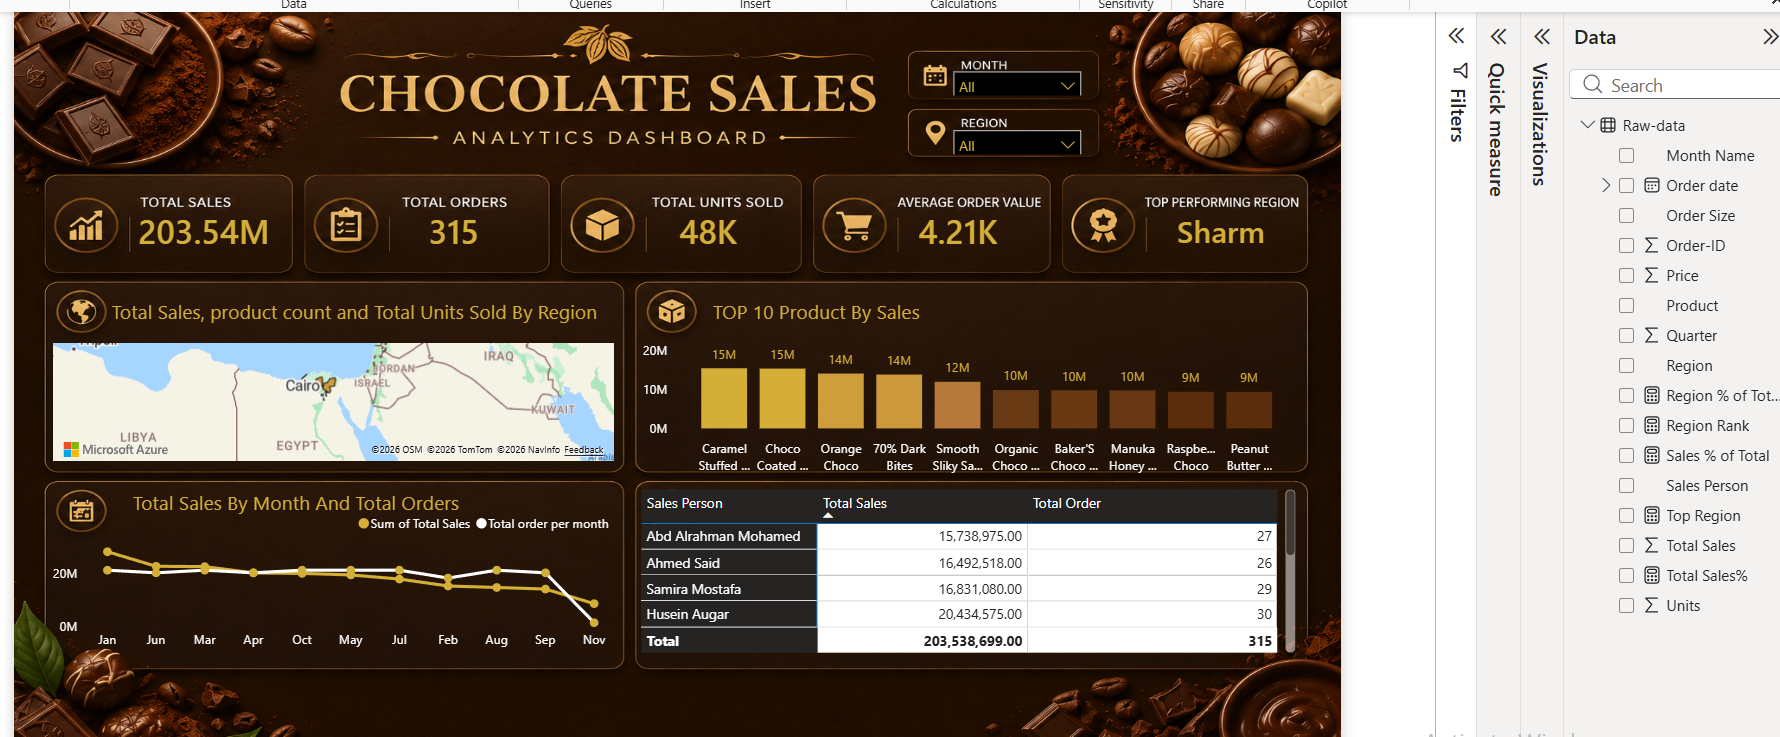

The page's visual inventory and layout, read from the dashboard file:
{"tool":"powerbi","page":{"name":"Page 1","canvas":[1280,720],"ordinal":0},"visuals":[{"type":"cardVisual","fields":{"Data":["Sum(Raw-data.Total Sales)"]},"box":[89.3,161.7,188.2,97.7],"z":0},{"type":"cardVisual","fields":{"Data":["Count(Raw-data.Order-ID)"]},"box":[330.6,161.7,188.2,97.7],"z":1000},{"type":"cardVisual","fields":{"Data":["Sum(Raw-data.Units)"]},"box":[575.5,161.7,189.4,97.7],"z":2000},{"type":"cardVisual","fields":{"Data":["Avg(Raw-data.Price)"]},"box":[801.1,161.7,220.8,97.7],"z":3000},{"type":"cardVisual","fields":{"Data":["Min(Raw-data.Region)"]},"box":[1064.1,161.7,202.7,97.7],"z":4000},{"type":"azureMap","fields":{"Category":["Raw-data.Region"]},"box":[32.6,314.9,551.3,123.1],"z":5000},{"type":"textbox","box":[89.3,271.4,494.6,43.4],"z":6000},{"type":"slicer","fields":{"Values":["Raw-data.Order date .Variation.Date Hierarchy.Month"]},"box":[896,47.3,143.3,33.3],"z":7000},{"type":"slicer","fields":{"Values":["Raw-data.Region"]},"box":[895.8,103.3,143.3,33.3],"z":8000},{"type":"lineChart","fields":{"Category":["Raw-data.Month Name"],"Y":["Sum(Raw-data.Total Sales)"],"Y2":["Count(Raw-data.Order-ID)"]},"box":[32.6,474.1,551.3,149.6],"z":9000},{"type":"textbox","box":[109.8,456,335.4,36.2],"z":10000},{"type":"pivotTable","fields":{"Rows":["Raw-data.Sales Person"],"Values":["Sum(Raw-data.Total Sales)","Count(Raw-data.Order-ID)"]},"box":[600.8,456,640.6,167.7],"z":11000},{"type":"clusteredColumnChart","fields":{"Y":["Sum(Raw-data.Total Sales)"],"Category":["Raw-data.Product"]},"box":[602.4,307.4,640.8,145.5],"z":12000},{"type":"textbox","box":[669.6,271.7,336.2,35.7],"z":13000}]}

Visuals, with their boxes on the page's 1280x720 design canvas (x1, y1, x2, y2). These are canvas units, not pixel positions in the 1780x737 screenshot, which may show the page scaled, cropped or inside an application window:
cardVisual - Sum(Raw-data.Total Sales): detection(89, 162, 278, 259)
cardVisual - Count(Raw-data.Order-ID): detection(331, 162, 519, 259)
cardVisual - Sum(Raw-data.Units): detection(576, 162, 765, 259)
cardVisual - Avg(Raw-data.Price): detection(801, 162, 1022, 259)
cardVisual - Min(Raw-data.Region): detection(1064, 162, 1267, 259)
azureMap - Raw-data.Region: detection(33, 315, 584, 438)
textbox: detection(89, 271, 584, 315)
slicer - Raw-data.Order date .Variation.Date Hierarchy.Month: detection(896, 47, 1039, 81)
slicer - Raw-data.Region: detection(896, 103, 1039, 137)
lineChart - Raw-data.Month Name x Sum(Raw-data.Total Sales): detection(33, 474, 584, 624)
textbox: detection(110, 456, 445, 492)
pivotTable - Raw-data.Sales Person x Sum(Raw-data.Total Sales): detection(601, 456, 1241, 624)
clusteredColumnChart - Sum(Raw-data.Total Sales) x Raw-data.Product: detection(602, 307, 1243, 453)
textbox: detection(670, 272, 1006, 307)
